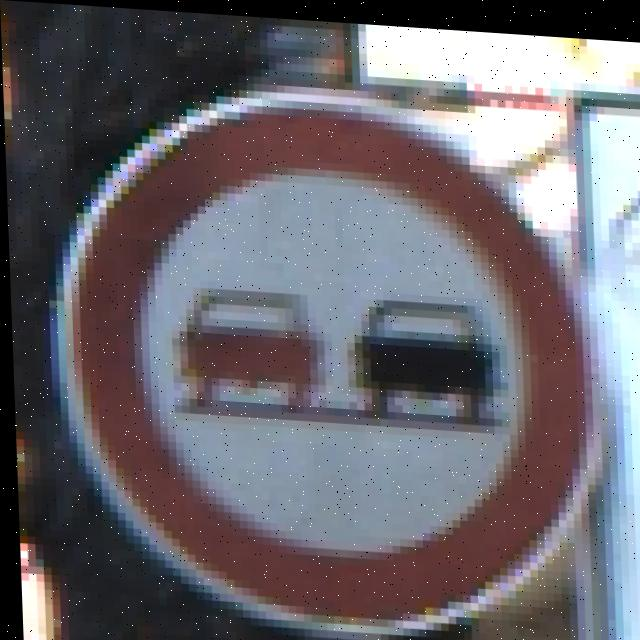no_overtaking: (90, 99, 603, 639)
